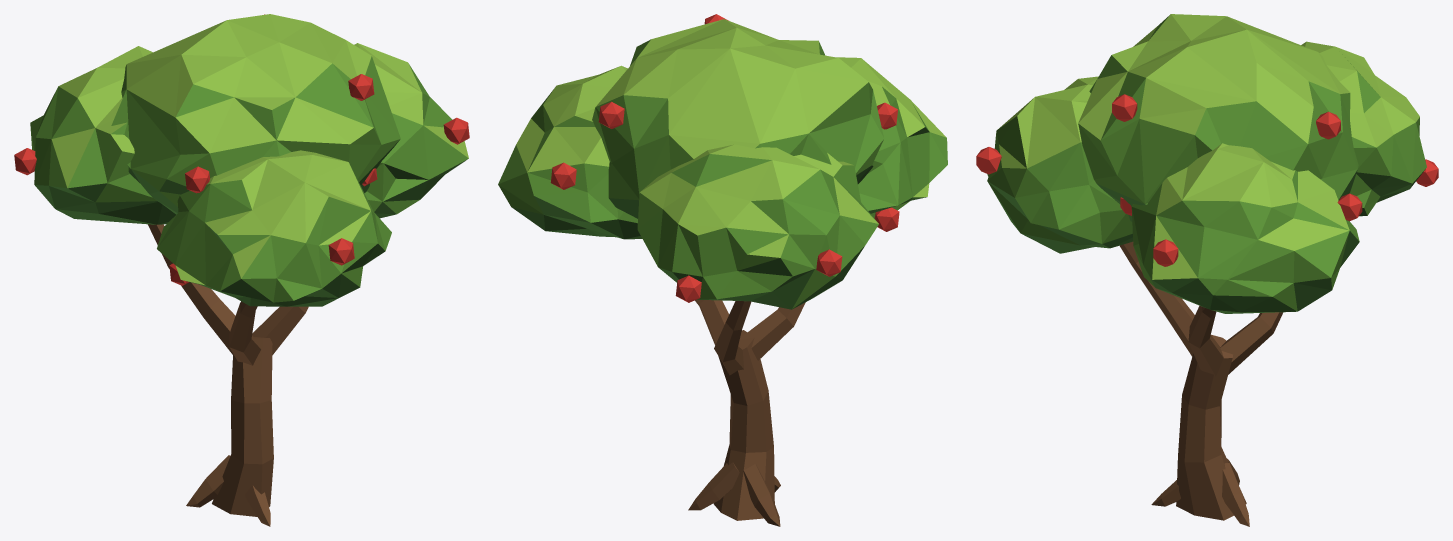
The model's file is Veg_Apfelbaum.fbx.
3 views of the same model, side by side, from view 1: azimuth 30°, elevation 25°; view 2: azimuth 150°, elevation 25°; view 3: azimuth 270°, elevation 25° (orthographic).
Visible parts, largest first — view 1: Veg_Apfelbaum; view 2: Veg_Apfelbaum; view 3: Veg_Apfelbaum.
Boxes of the visible parts, x1,y1,x2,y2 form: Veg_Apfelbaum: [14, 14, 469, 526]; Veg_Apfelbaum: [498, 14, 947, 526]; Veg_Apfelbaum: [976, 14, 1438, 526].
Size of the model in its own units: 3.31 by 4 by 3.5.
